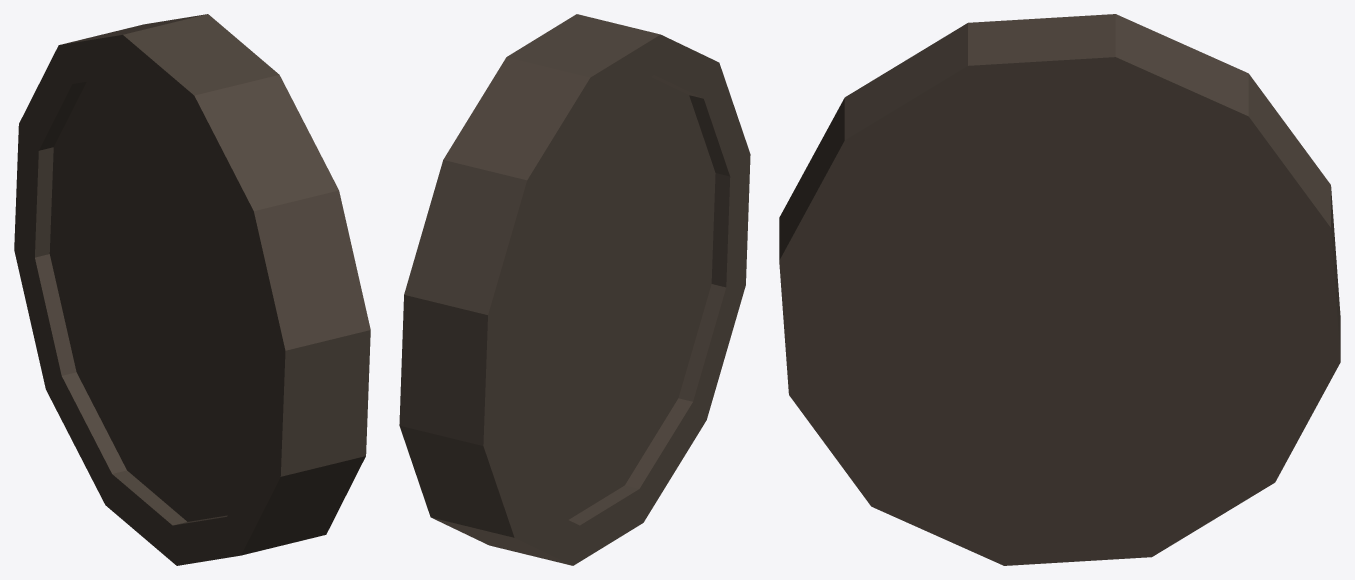
File: SM_Veh_Excavator_01_Track_Wheel_rr.obj
3 renders of one model, left to right at view 1: azimuth 30°, elevation 25°; view 2: azimuth 150°, elevation 25°; view 3: azimuth 270°, elevation 25°, orthographic. The views are drawn at different scales.
Parts seen in each view (by area): view 1: SM_Veh_Excavator_01_Track_Wheel_rr_0; view 2: SM_Veh_Excavator_01_Track_Wheel_rr_0; view 3: SM_Veh_Excavator_01_Track_Wheel_rr_0.
Part boxes in pixels (<box>): SM_Veh_Excavator_01_Track_Wheel_rr_0: <box>14,14,370,565</box>; SM_Veh_Excavator_01_Track_Wheel_rr_0: <box>399,14,750,565</box>; SM_Veh_Excavator_01_Track_Wheel_rr_0: <box>779,14,1340,565</box>.
Size of the model in its own units: 0.2155 by 1.19 by 1.19.
Materials: 1 (1 with a texture image).
